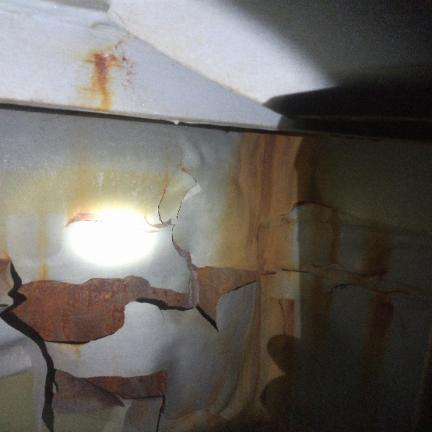besi_tidak_karat: (0, 1, 281, 130)
karat: (12, 276, 182, 342), (192, 266, 259, 322), (52, 370, 123, 413), (84, 370, 167, 398), (87, 51, 118, 110)
